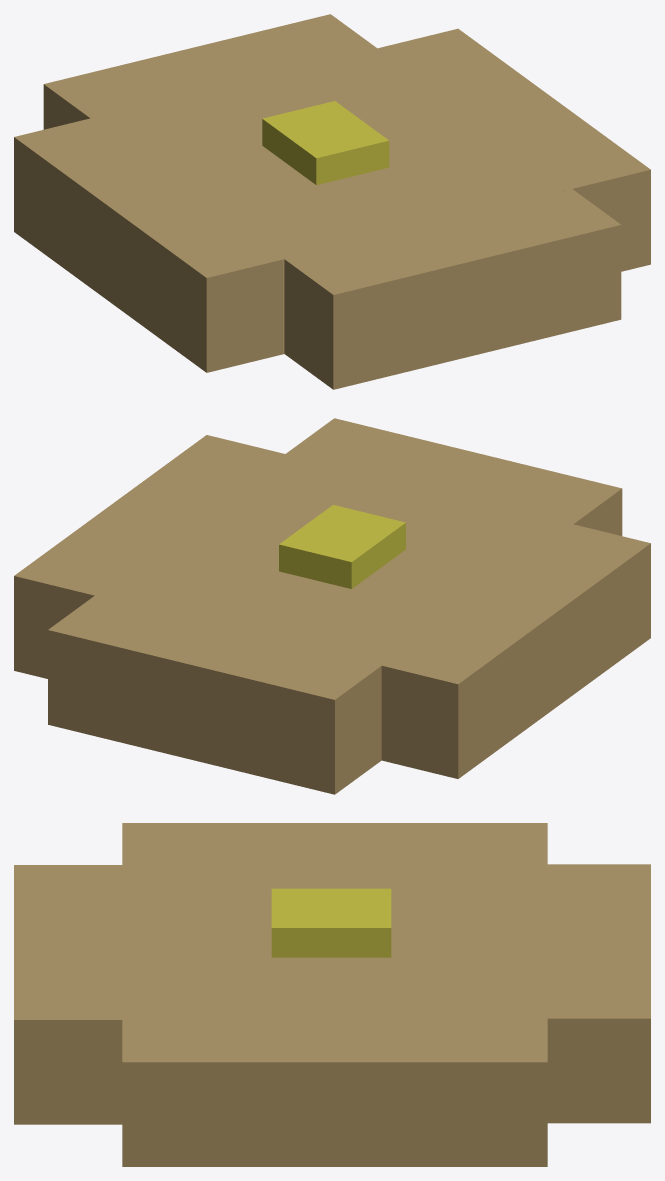
File: Pancake.fbx
3 views of the same model, one above another, from view 1: azimuth 30°, elevation 25°; view 2: azimuth 150°, elevation 25°; view 3: azimuth 270°, elevation 25° (orthographic). The views are drawn at different scales.
Visible parts, largest first — view 1: Pancake, Butter; view 2: Pancake, Butter; view 3: Pancake, Butter.
Part boxes in pixels (bbox=[...]): Pancake: bbox=[14, 14, 650, 389]; Butter: bbox=[262, 101, 389, 185]; Pancake: bbox=[14, 418, 650, 794]; Butter: bbox=[279, 505, 405, 588]; Pancake: bbox=[14, 823, 650, 1166]; Butter: bbox=[271, 888, 391, 957].
Bounding box in the file's own units: 6.81 × 1.79 × 7.66.
